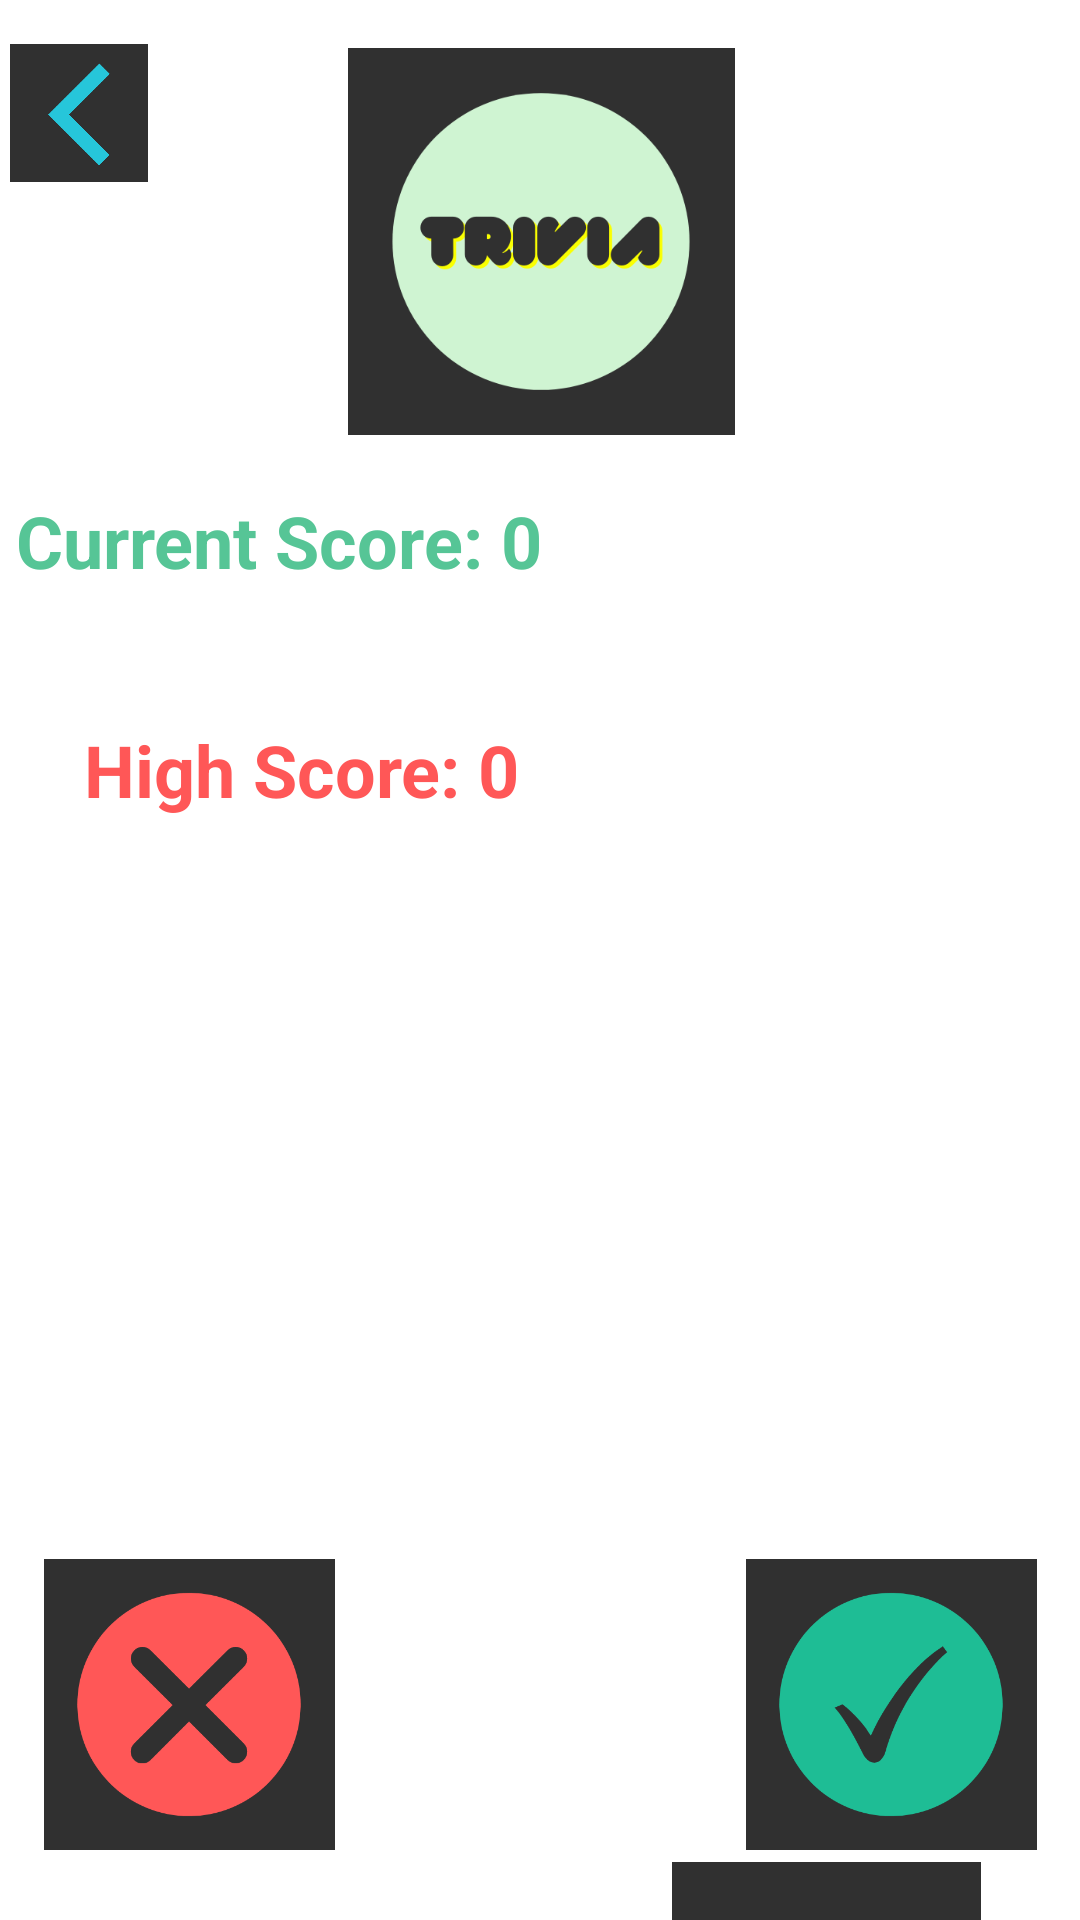

Named icons in this screenshot (1080x1920) and their bounding boxes, (x1, y1, x2, y2):
trivia game back: (10, 44, 148, 182)
trivia game cancel: (44, 1559, 335, 1850)
trivia game chec: (746, 1559, 1037, 1850)
